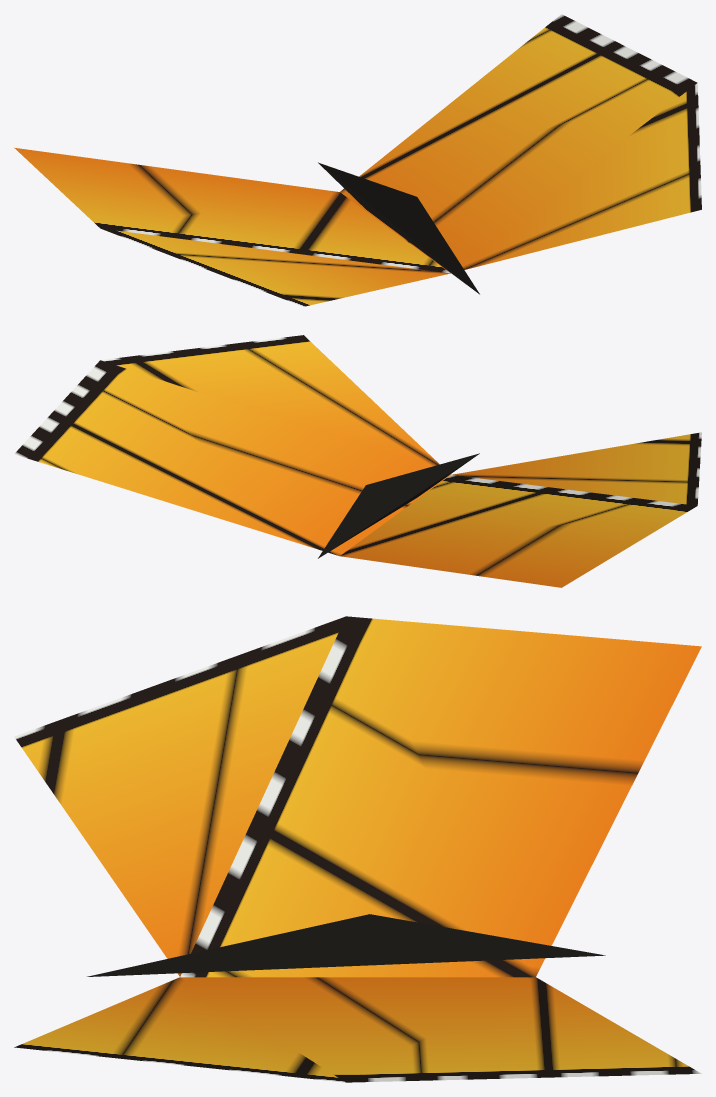
File: butterfly.glb
3 renders of one model, top to bottom at view 1: azimuth 30°, elevation 25°; view 2: azimuth 150°, elevation 25°; view 3: azimuth 270°, elevation 25°, orthographic. The views are drawn at different scales.
Visible parts, largest first — view 1: Butterfly_Wing_R, Butterfly_Wing_L, Butterfly_Body; view 2: Butterfly_Wing_R, Butterfly_Wing_L, Butterfly_Body; view 3: Butterfly_Wing_L, Butterfly_Wing_R, Butterfly_Body.
Part boxes in pixels (x1,y1,x2,y2): Butterfly_Wing_R: (340, 14, 701, 273); Butterfly_Wing_L: (14, 147, 450, 306); Butterfly_Body: (318, 162, 479, 294); Butterfly_Wing_R: (14, 335, 450, 556); Butterfly_Wing_L: (340, 432, 701, 587); Butterfly_Body: (318, 453, 479, 558); Butterfly_Wing_L: (14, 616, 701, 977); Butterfly_Wing_R: (14, 977, 701, 1082); Butterfly_Body: (87, 914, 605, 976).
Bounding box in the file's own units: 0.0465 × 0.00594 × 0.029.
Materials: 1 (1 with a texture image).
